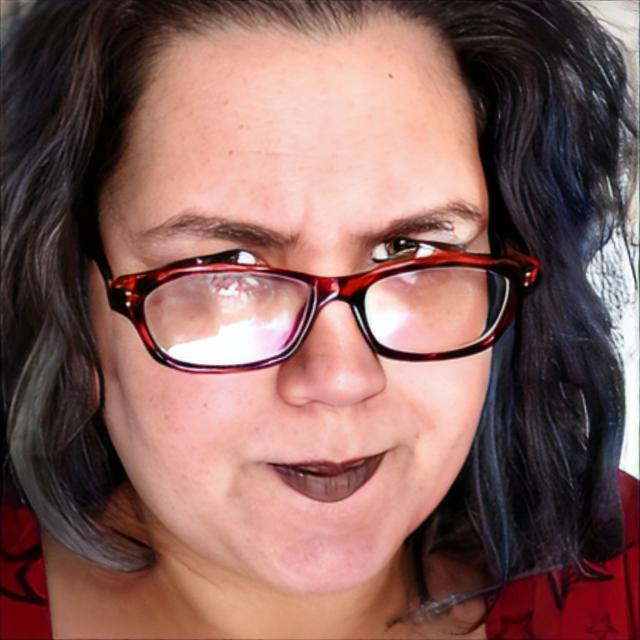anger: (108, 20, 497, 595)
